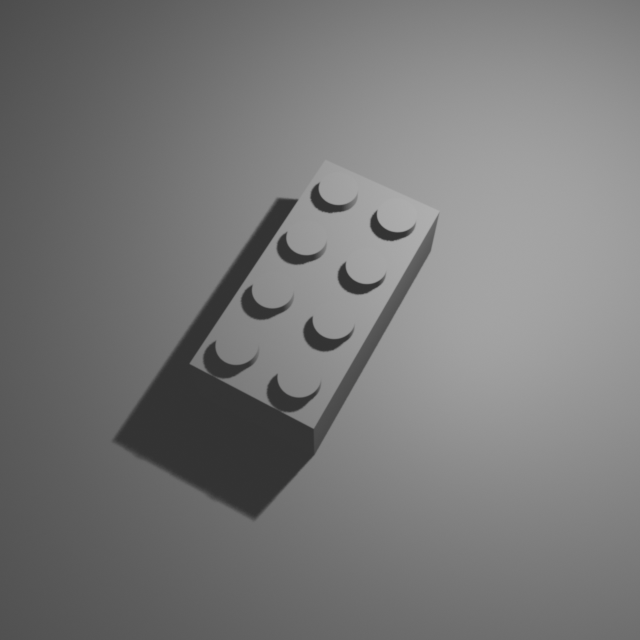lego_2x4: (188, 152, 441, 455)
